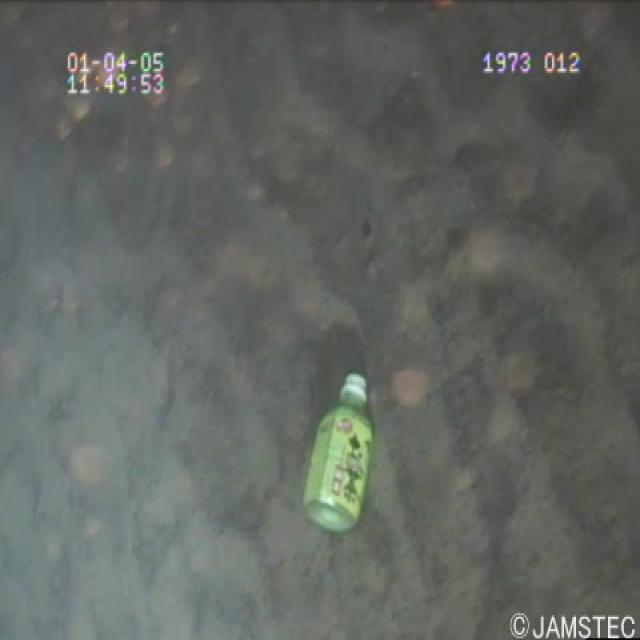plastic: (299, 362, 384, 548)
